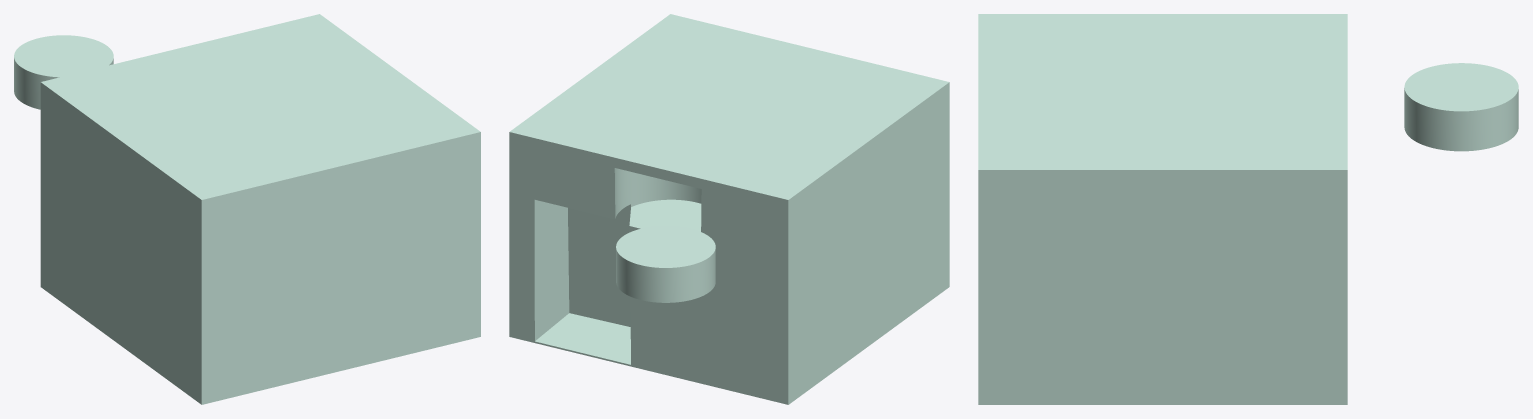
3 views of the same model, side by side, from view 1: azimuth 30°, elevation 25°; view 2: azimuth 150°, elevation 25°; view 3: azimuth 270°, elevation 25° (orthographic). The views are drawn at different scales.
Visible parts, largest first — view 1: Renderer Node; view 2: Renderer Node; view 3: Renderer Node.
Boxes of the visible parts, x1,y1,x2,y2 form: Renderer Node: (14,14,480,404); Renderer Node: (509,14,949,404); Renderer Node: (978,14,1518,404).
Bounding box in the file's own units: 1.05 × 0.7344 × 1.53.
